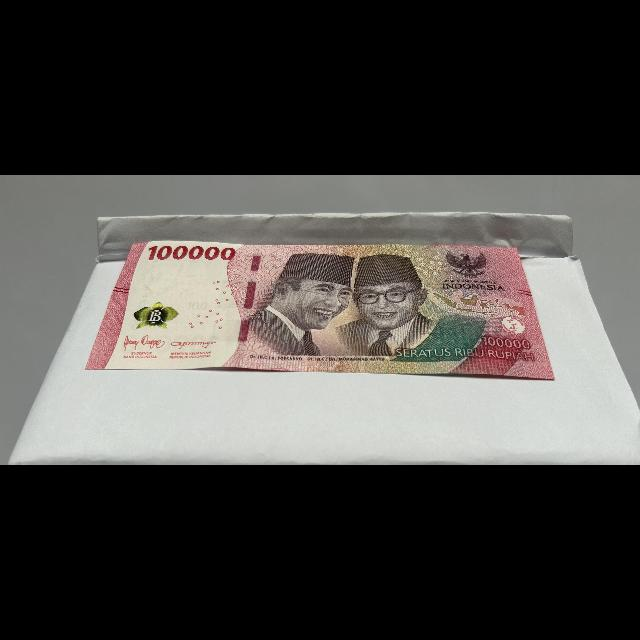Asli-100k: (81, 237, 560, 384)
Tinta-Asli-100k: (126, 299, 183, 332)
